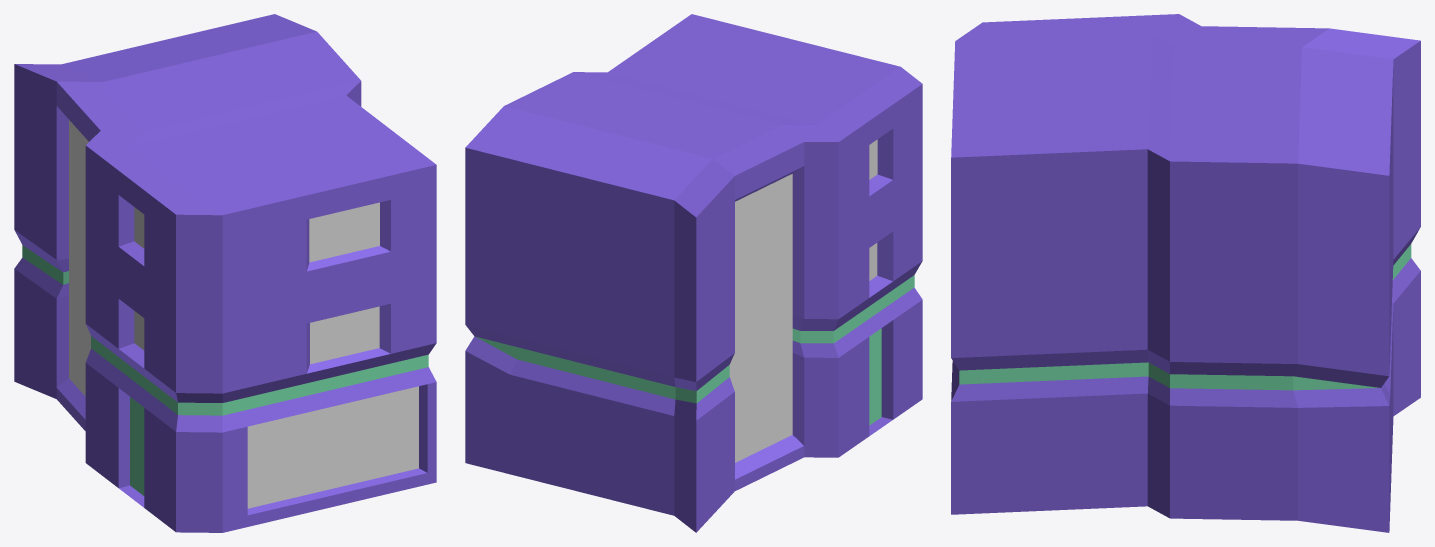
The model's file is FBX_LC_mHouse_13.fbx.
3 renders of one model, left to right at view 1: azimuth 30°, elevation 25°; view 2: azimuth 150°, elevation 25°; view 3: azimuth 270°, elevation 25°, orthographic. The views are drawn at different scales.
Parts seen in each view (by area): view 1: FBX_LC_mHouse_13; view 2: FBX_LC_mHouse_13; view 3: FBX_LC_mHouse_13.
Boxes of the visible parts, x1=… form: FBX_LC_mHouse_13: x1=14, y1=14, x2=436, y2=532; FBX_LC_mHouse_13: x1=465, y1=14, x2=922, y2=532; FBX_LC_mHouse_13: x1=951, y1=14, x2=1420, y2=532.
Size of the model in its own units: 899 by 995 by 1143.
